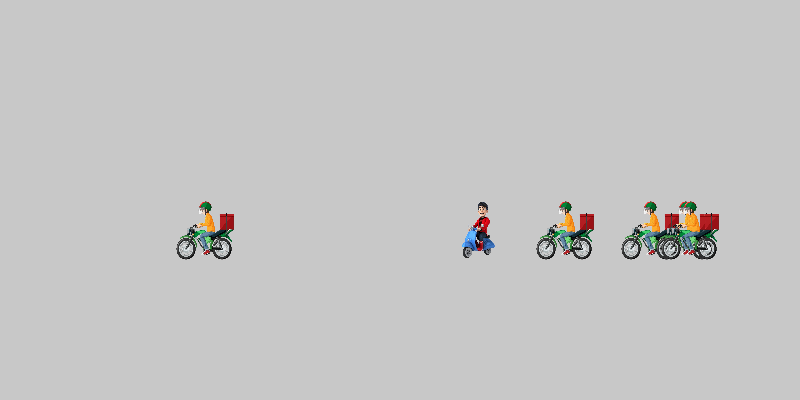helmet: (175, 200, 235, 260), (535, 200, 595, 260), (620, 200, 680, 260), (655, 200, 715, 260), (660, 200, 720, 260)
no_helmet: (450, 200, 510, 260)
